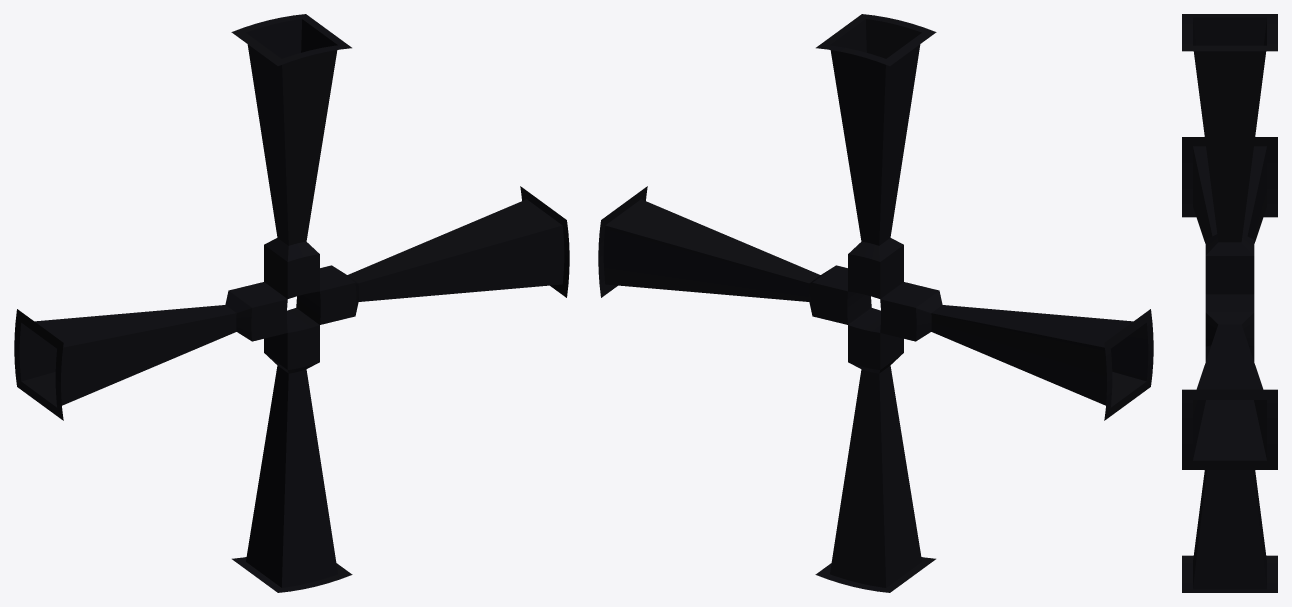
The model's file is LD50-Obstacle-Tower-Four-01.glb.
3 renders of one model, left to right at view 1: azimuth 30°, elevation 25°; view 2: azimuth 150°, elevation 25°; view 3: azimuth 270°, elevation 25°, orthographic. The views are drawn at different scales.
Parts seen in each view (by area): view 1: Obstacle-Tower-four-01; view 2: Obstacle-Tower-four-01; view 3: Obstacle-Tower-four-01.
Boxes of the visible parts, x1,y1,x2,y2 form: Obstacle-Tower-four-01: (14,14,569,592); Obstacle-Tower-four-01: (598,14,1153,592); Obstacle-Tower-four-01: (1182,14,1277,592).
Size of the model in its own units: 30 by 30 by 4.76.
Materials: 1 (1 with a texture image).
